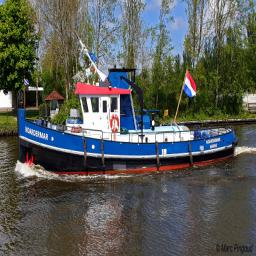tugboat: (17, 67, 242, 183)
